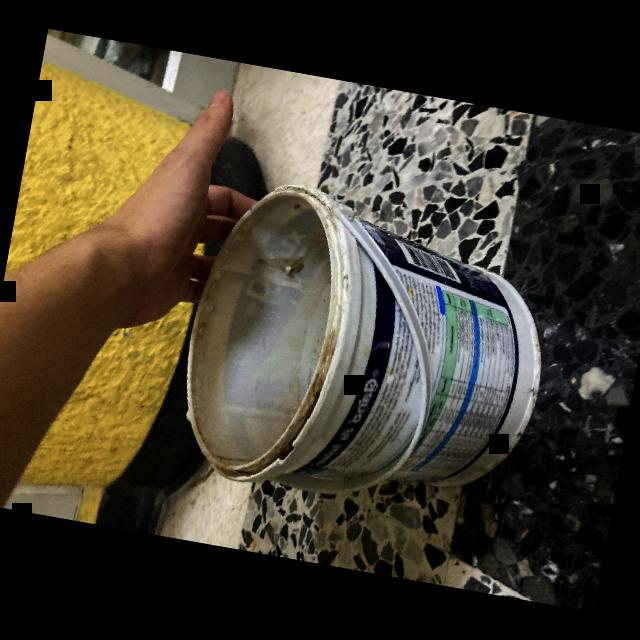paint_bucket: (158, 167, 566, 532)
